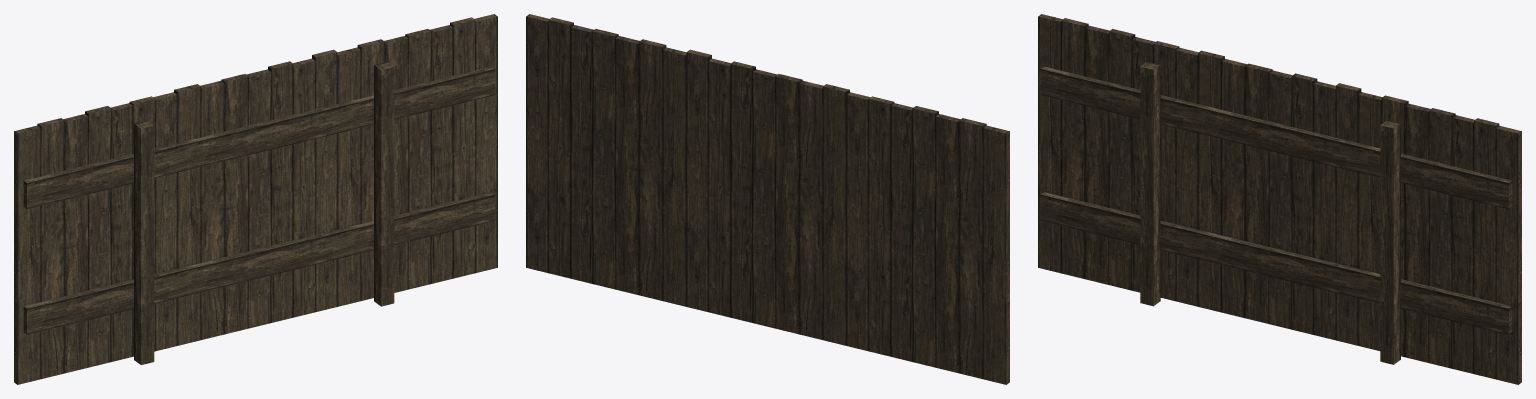
Rendered from fence_a_1.obj.
The picture shows the model from 3 angles, left to right: view 1: azimuth 30°, elevation 25°; view 2: azimuth 150°, elevation 25°; view 3: azimuth 330°, elevation 25°; orthographic projection.
Parts seen in each view (by area): view 1: fence_a_1; view 2: fence_a_1; view 3: fence_a_1.
Boxes of the visible parts, bbox=[...] form: fence_a_1: bbox=[14, 14, 497, 384]; fence_a_1: bbox=[526, 14, 1009, 384]; fence_a_1: bbox=[1038, 14, 1521, 384].
Size of the model in its own units: 4 by 2.03 by 0.2033.
